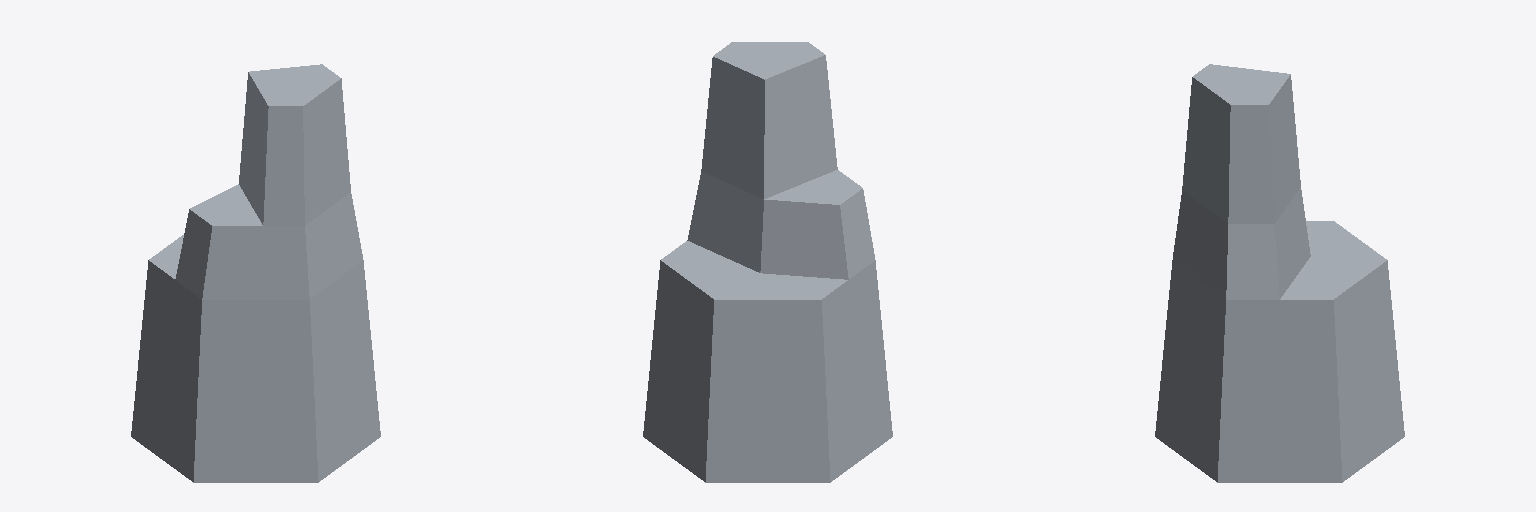
The picture shows the model from 3 angles: view 1: azimuth 30°, elevation 25°; view 2: azimuth 150°, elevation 25°; view 3: azimuth 270°, elevation 25°; orthographic projection.
Visible parts, largest first — view 1: Mesh1 Tall_Rock_2 Model; view 2: Mesh1 Tall_Rock_2 Model; view 3: Mesh1 Tall_Rock_2 Model.
Part boxes in pixels (bbox=[...]): Mesh1 Tall_Rock_2 Model: bbox=[131, 64, 380, 482]; Mesh1 Tall_Rock_2 Model: bbox=[643, 42, 892, 482]; Mesh1 Tall_Rock_2 Model: bbox=[1155, 64, 1404, 482].
Size of the model in its own units: 0.5428 by 1 by 0.6267.